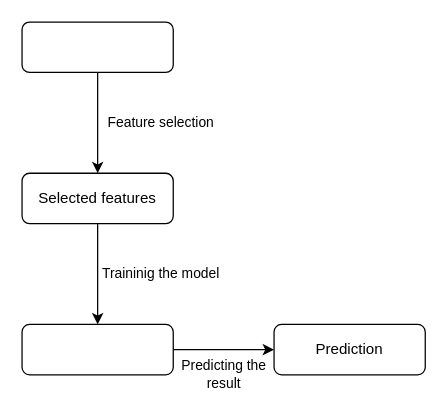
Some shapes in this 447 by 413 pixel diagram are drawn without their labels. Each missing label, with the centre of its shape:
"Feature set" goes at [97,46].
"Machine learning model" goes at [97,349].
